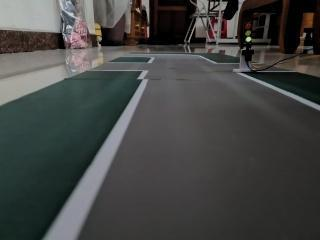green: (235, 14, 259, 62)
